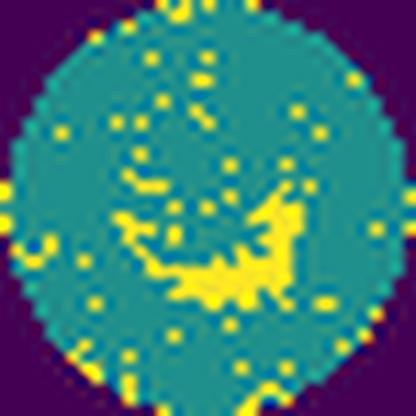Donut: (105, 91, 332, 331)
